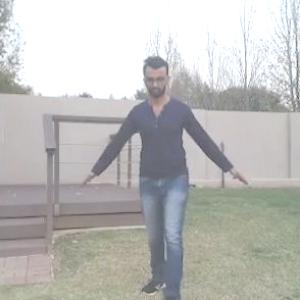land: (90, 56, 252, 297)
